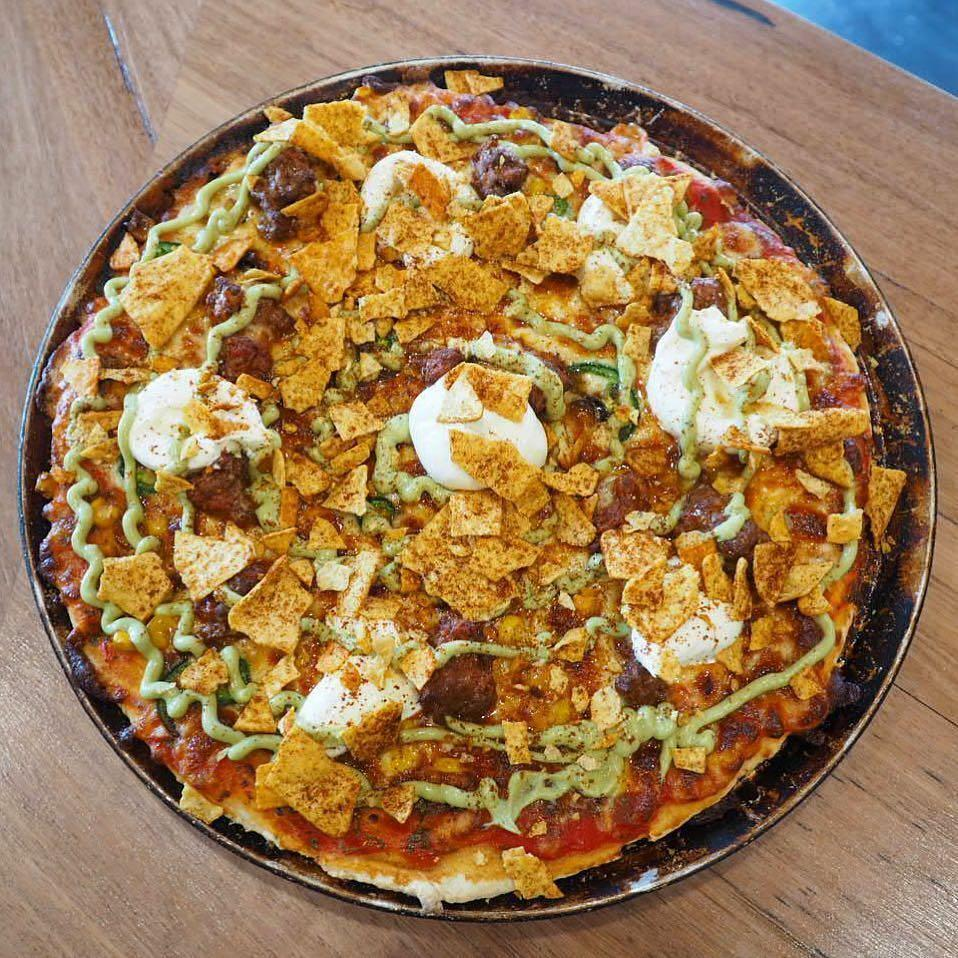Cheese: (636, 300, 818, 454), (395, 371, 558, 495), (120, 370, 286, 480), (367, 144, 480, 269), (287, 663, 425, 748), (623, 596, 751, 678), (166, 525, 261, 599)
Pizza: (36, 76, 901, 913)
